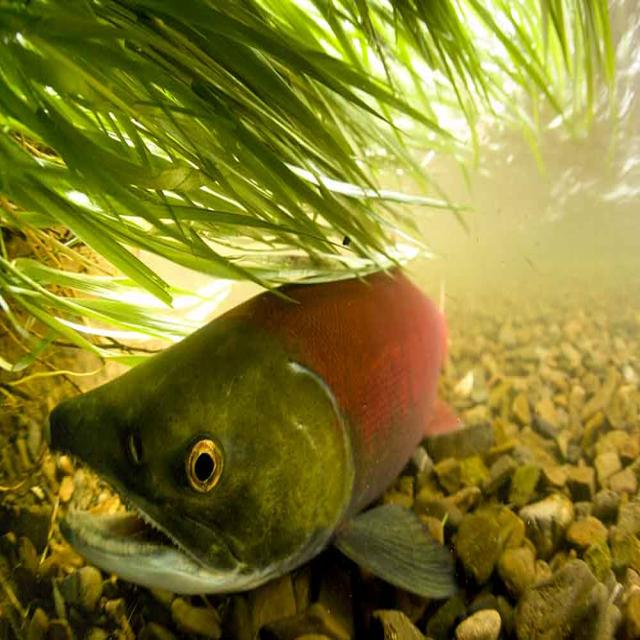salmon: (38, 222, 527, 633)
